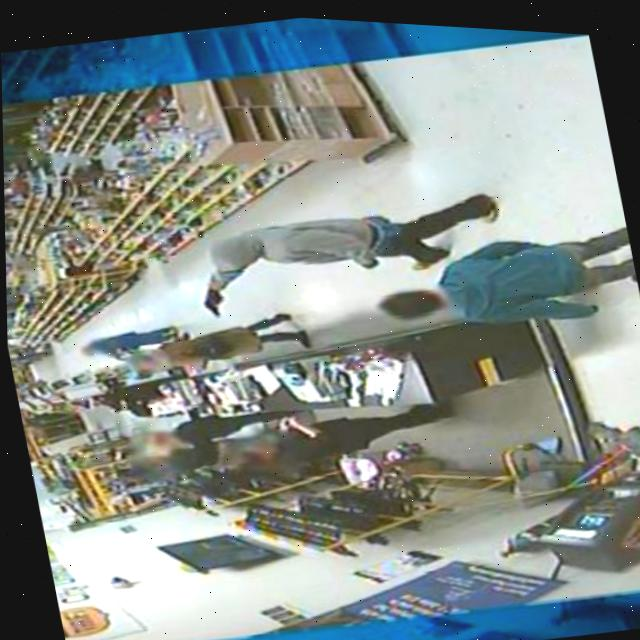pistol: (191, 279, 234, 323)
